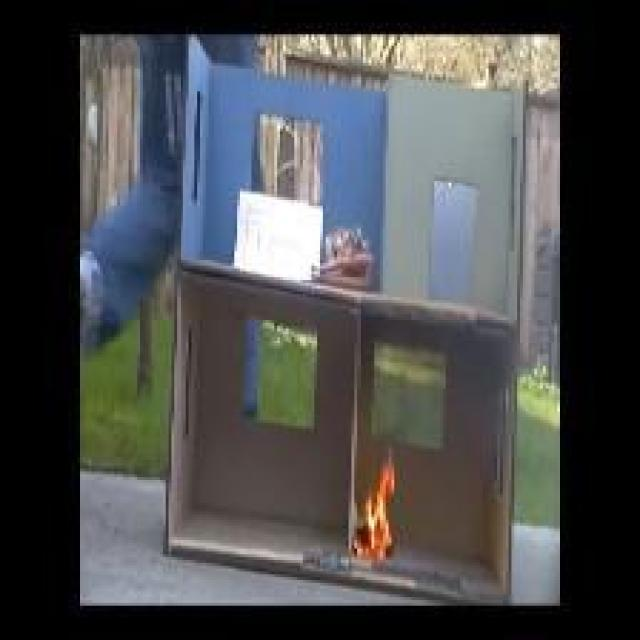fire: (352, 445, 397, 555)
